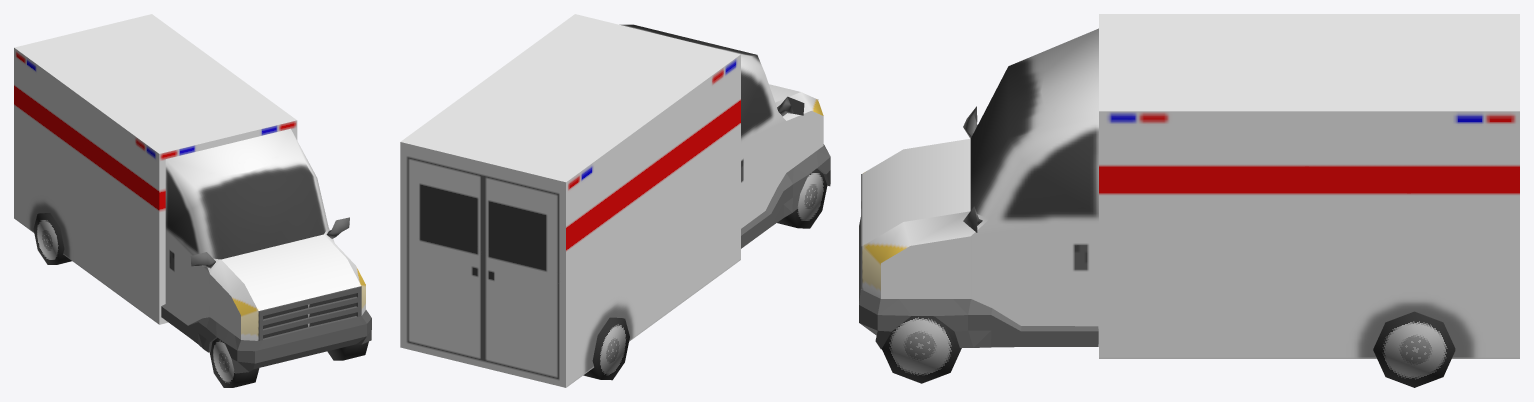
Rendered from ambulance.glb.
3 views of the same model, side by side, from view 1: azimuth 30°, elevation 25°; view 2: azimuth 150°, elevation 25°; view 3: azimuth 270°, elevation 25° (orthographic). The views are drawn at different scales.
Visible parts, largest first — view 1: Cab, Bumper, Tires; view 2: Cab, Tires, Bumper; view 3: Cab, Tires, Bumper.
Boxes of the visible parts, x1,y1,x2,y2 form: Cab: (14, 14, 365, 340); Bumper: (161, 217, 371, 373); Tires: (33, 213, 368, 387); Cab: (400, 14, 823, 387); Tires: (583, 168, 827, 380); Bumper: (741, 96, 830, 248); Cab: (862, 14, 1519, 358); Tires: (882, 311, 1455, 387); Bumper: (859, 106, 1098, 349).
Size of the model in its own units: 3.19 by 3.64 by 7.9.
Materials: 3 (2 with a texture image).
